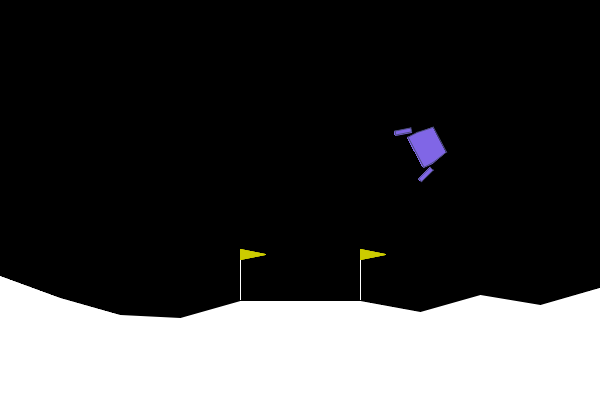lander: (392, 113, 455, 184)
